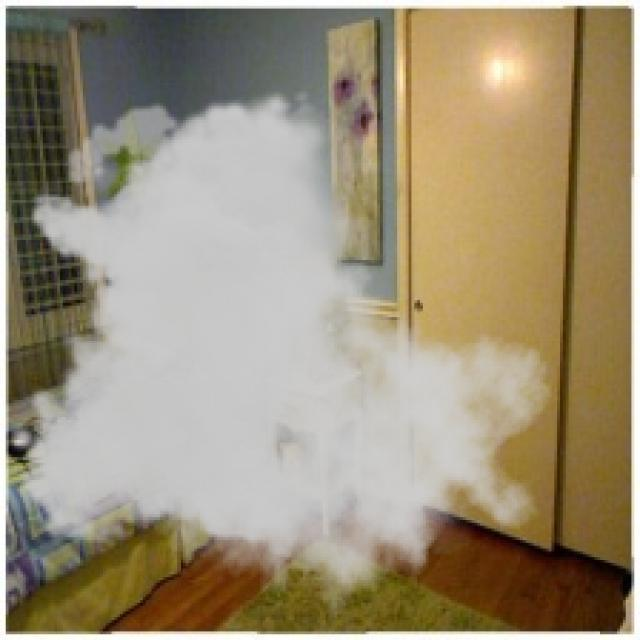Smoke: (6, 88, 554, 638)
